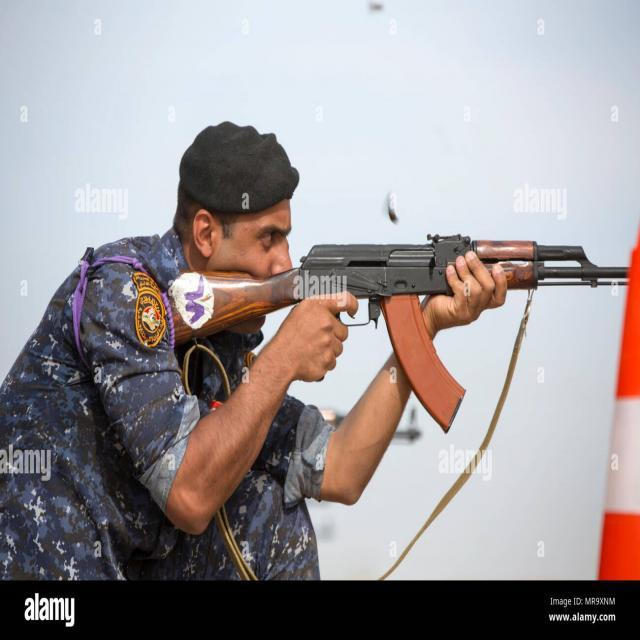weapon: (162, 228, 632, 433)
